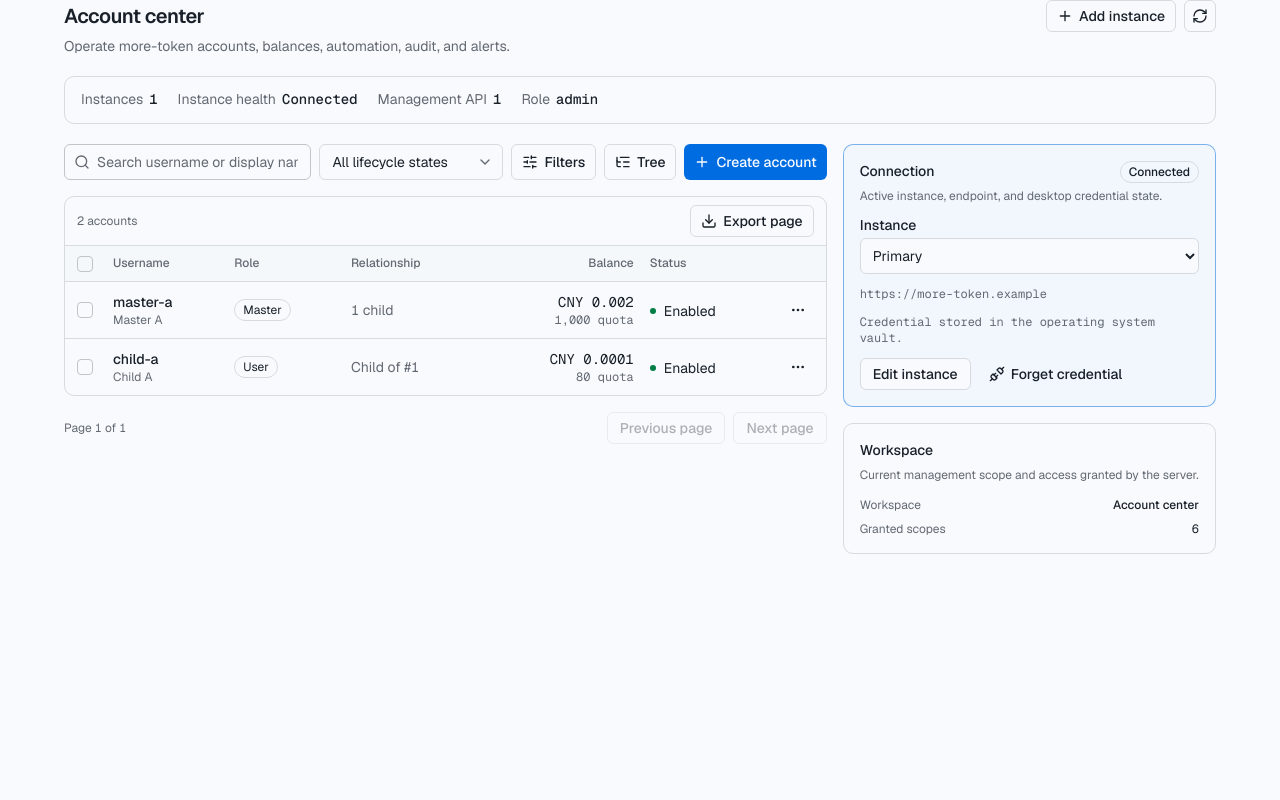
Test: sorting, paging and scoping › draws the tree from this page and opens an account from a node
The image size is (1280, 800).
Click the button "Tree" at (640, 162), box 604,144 -> 676,180
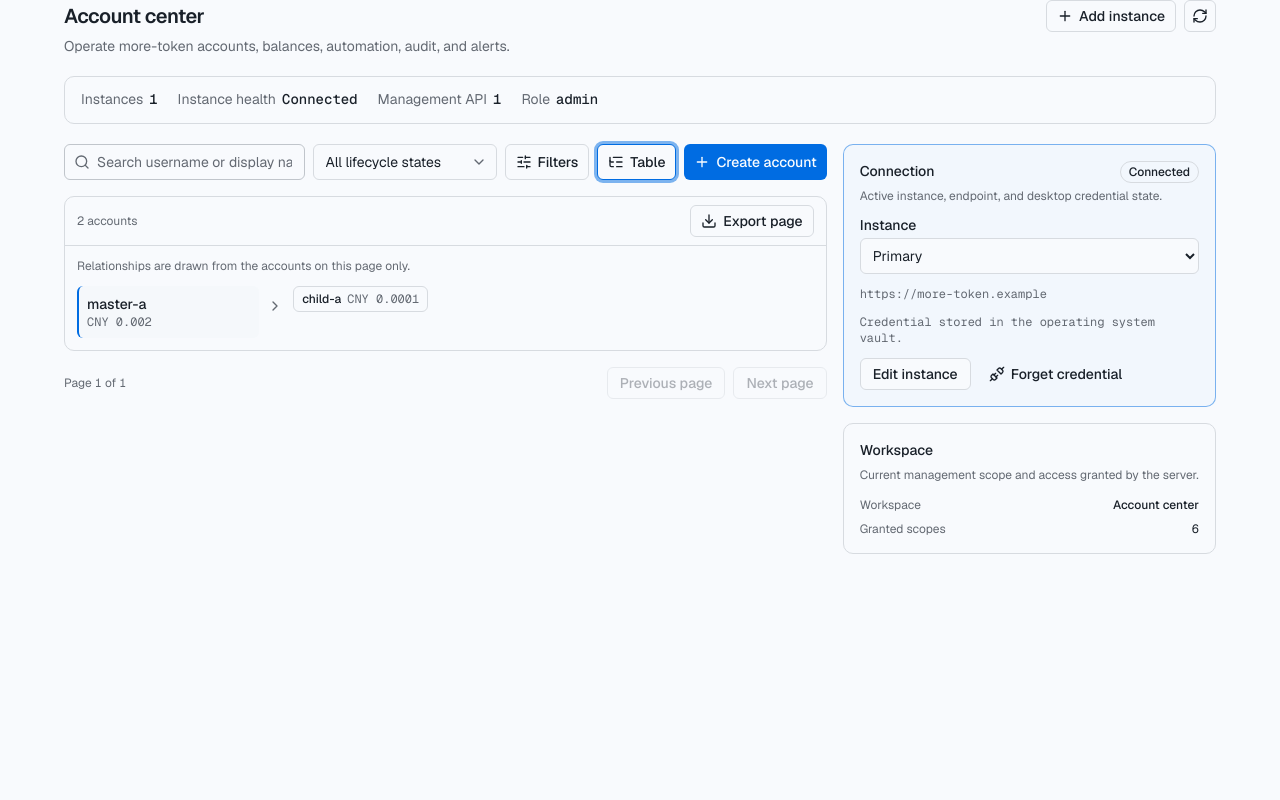
expect the text "Relationships are drawn from the accounts on this page only." is shown: met, box 77,258 -> 410,274
expect the table is gone: met
Click the button "child-a CNY 0.0001" at (361, 299), box 293,286 -> 428,312
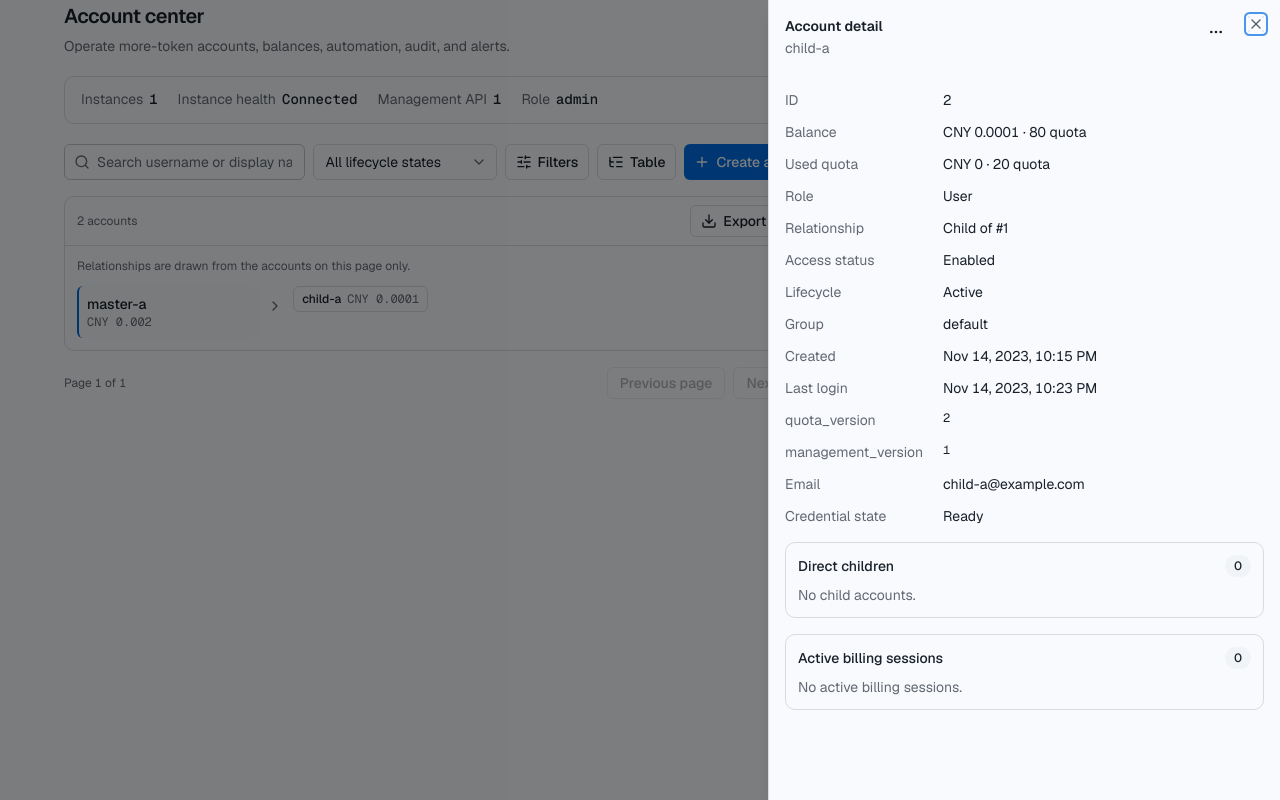
expect the heading "Account detail" is shown: met, box 785,16 -> 882,38
Press Escape
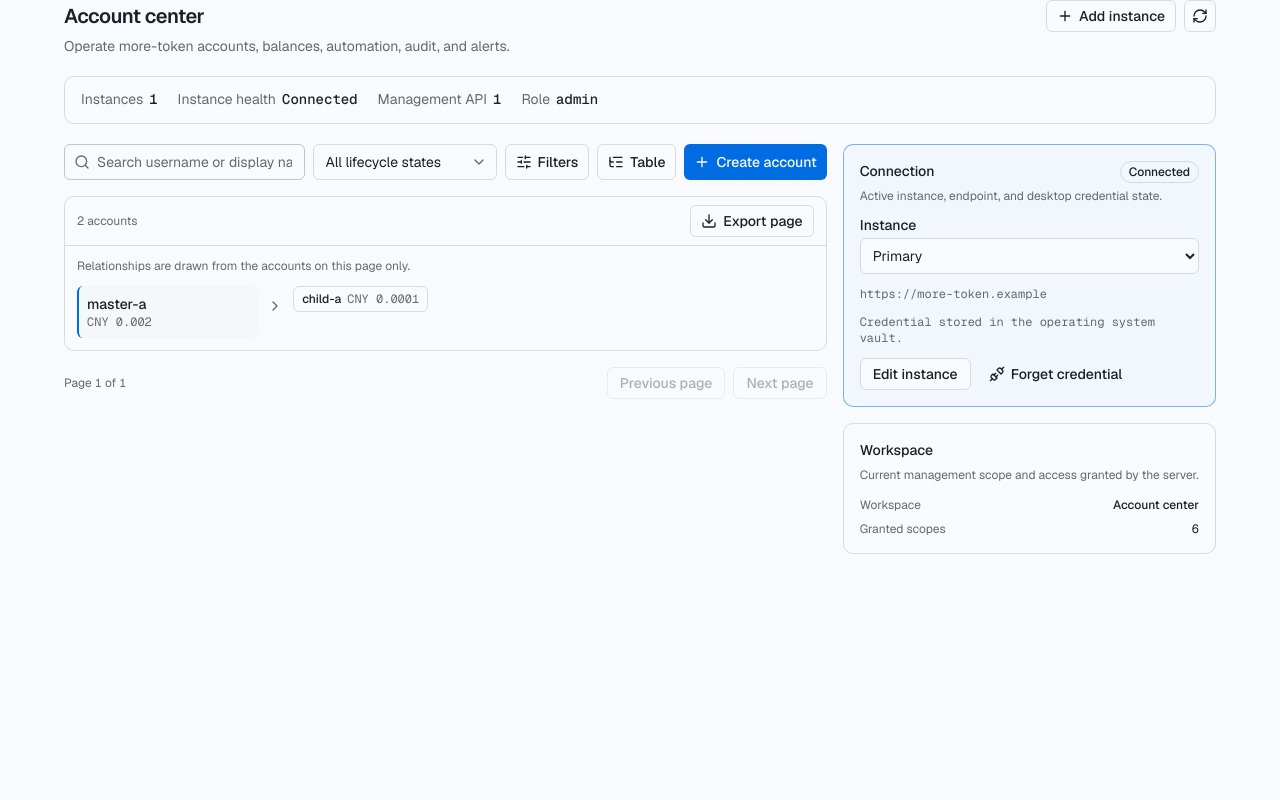
Click the button "Table" at (637, 162), box 597,144 -> 676,180
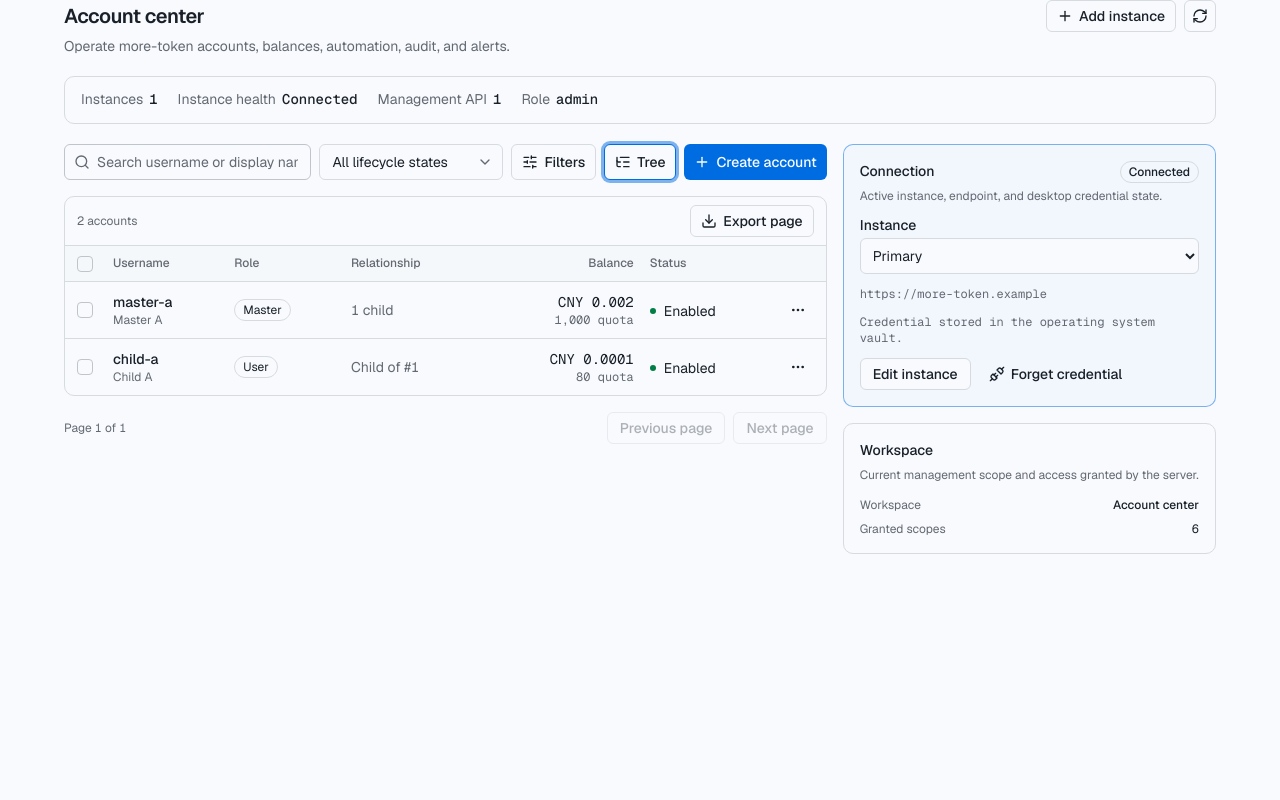
expect the table is shown: met, box 65,246 -> 826,395
